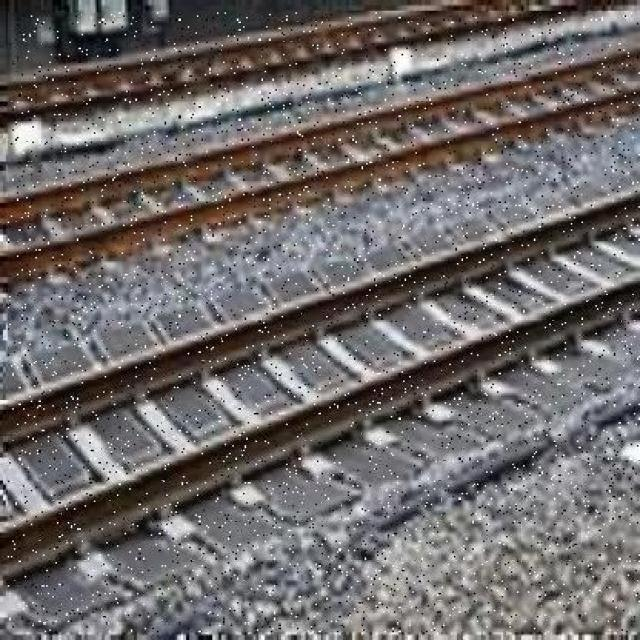rail: (1, 172, 640, 625), (1, 40, 640, 296)
